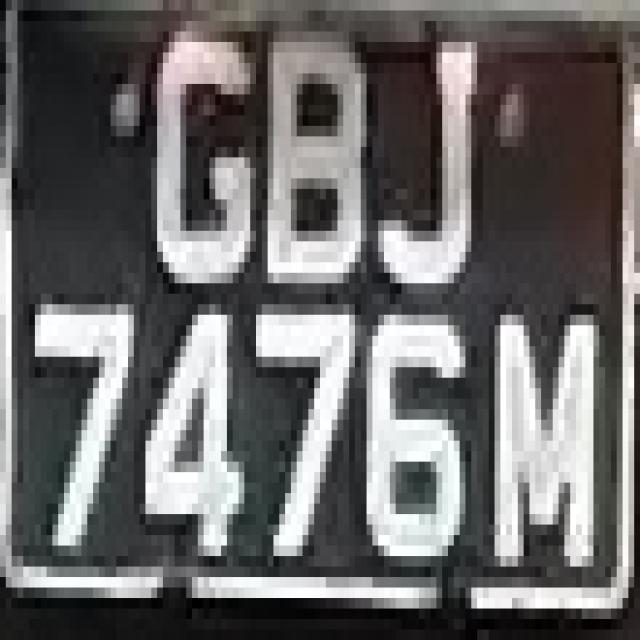4: (116, 273, 233, 566)
6: (361, 294, 471, 608)
7: (17, 220, 128, 566), (256, 283, 361, 577)
B: (256, 11, 390, 304)
G: (128, 10, 268, 315)
J: (384, 10, 489, 294)
M: (471, 273, 611, 608)
